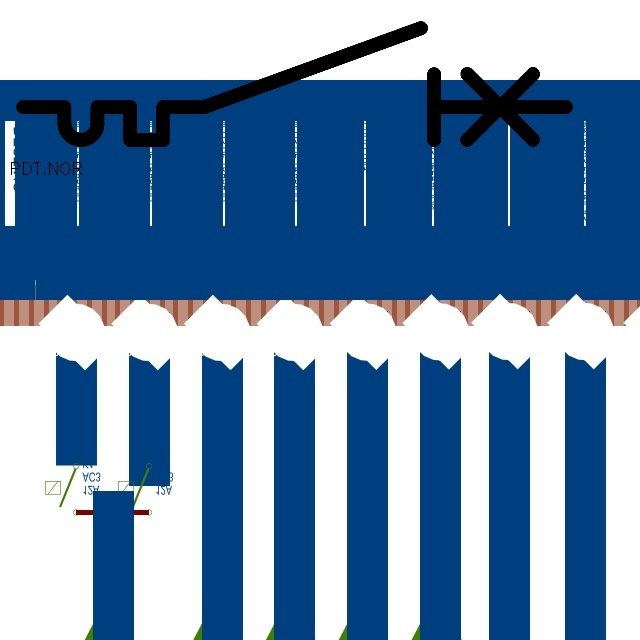interruptor_termomagnetico: (9, 14, 580, 154)
